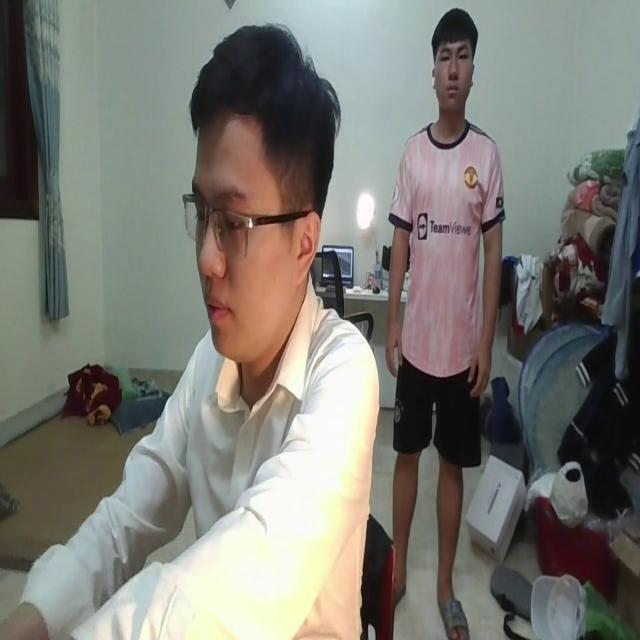extra_person: (379, 6, 511, 640)
student: (3, 18, 378, 640)
